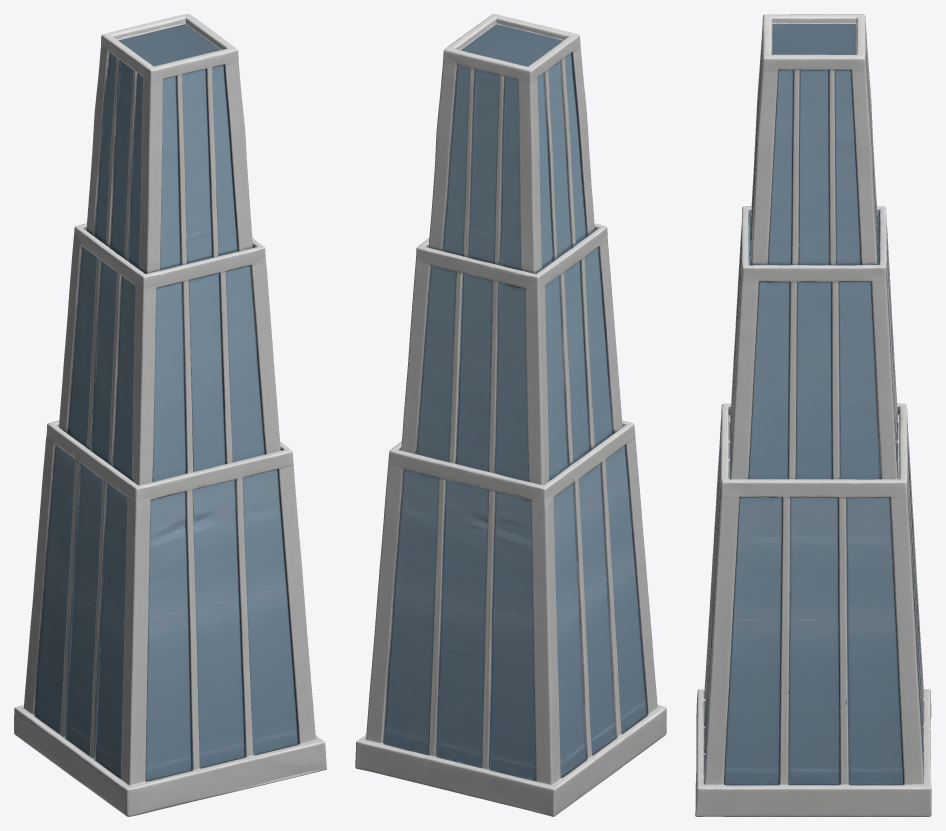
Rendered from glassSpire.glb.
3 views of the same model, side by side, from view 1: azimuth 30°, elevation 25°; view 2: azimuth 150°, elevation 25°; view 3: azimuth 270°, elevation 25° (orthographic). The views are drawn at different scales.
Visible parts, largest first — view 1: tripo_node_4f776028-7233-44eb-81c6-a295e28fc5c5; view 2: tripo_node_4f776028-7233-44eb-81c6-a295e28fc5c5; view 3: tripo_node_4f776028-7233-44eb-81c6-a295e28fc5c5.
Part boxes in pixels (left/top/right/bottom): tripo_node_4f776028-7233-44eb-81c6-a295e28fc5c5: left=14, top=14, right=326, bottom=816; tripo_node_4f776028-7233-44eb-81c6-a295e28fc5c5: left=355, top=14, right=666, bottom=816; tripo_node_4f776028-7233-44eb-81c6-a295e28fc5c5: left=695, top=14, right=931, bottom=816.
Bounding box in the file's own units: 0.2938 × 1 × 0.2927.
1 material, 1 textured.
